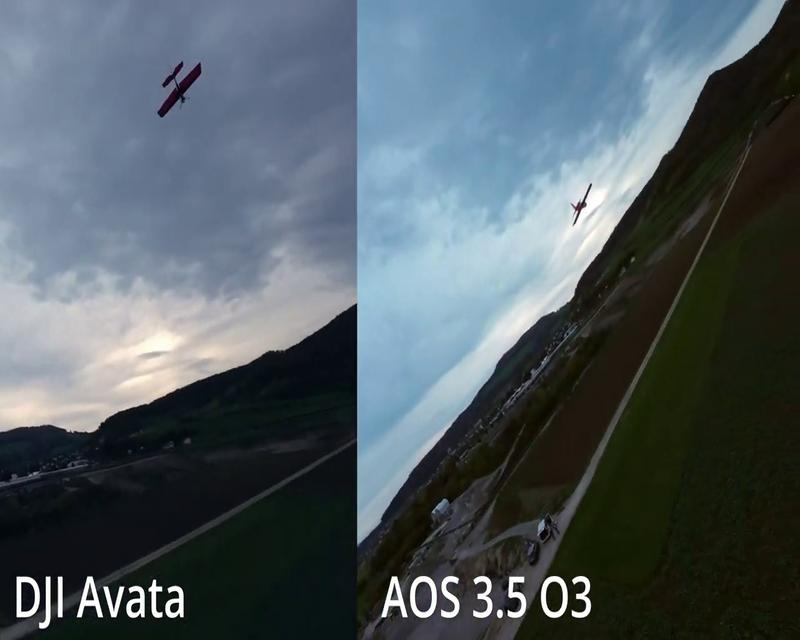UAV: (157, 60, 204, 118), (570, 183, 594, 225)
